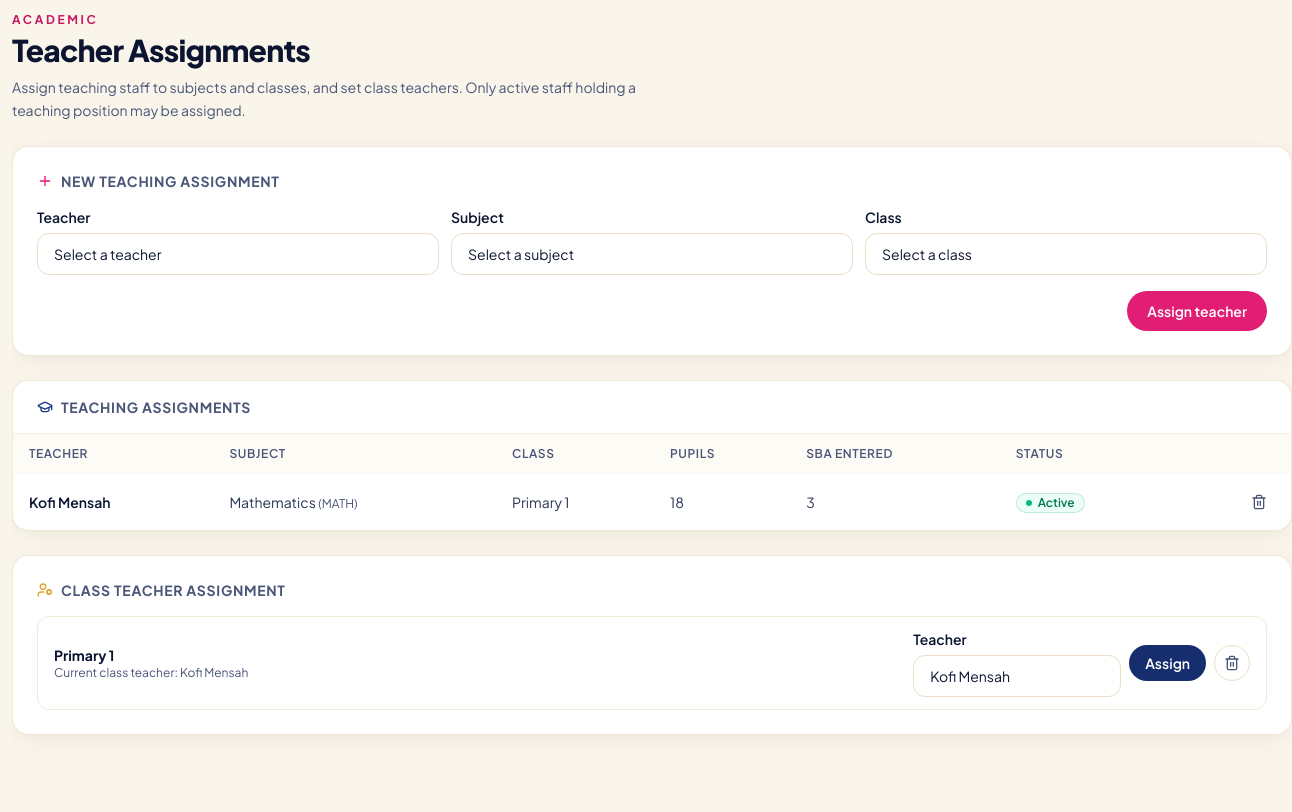
Test: TeacherAssignmentPage › removes a class teacher; the class reverts to unassigned on reload (TEST 7)
Check: the text "Current class teacher: Kofi Mensah" is shown, box top-left (54, 664), bottom-right (248, 680)
Click the button named "Remove class teacher for Primary 1".
click(1232, 662)  # box top-left (1214, 644), bottom-right (1250, 680)
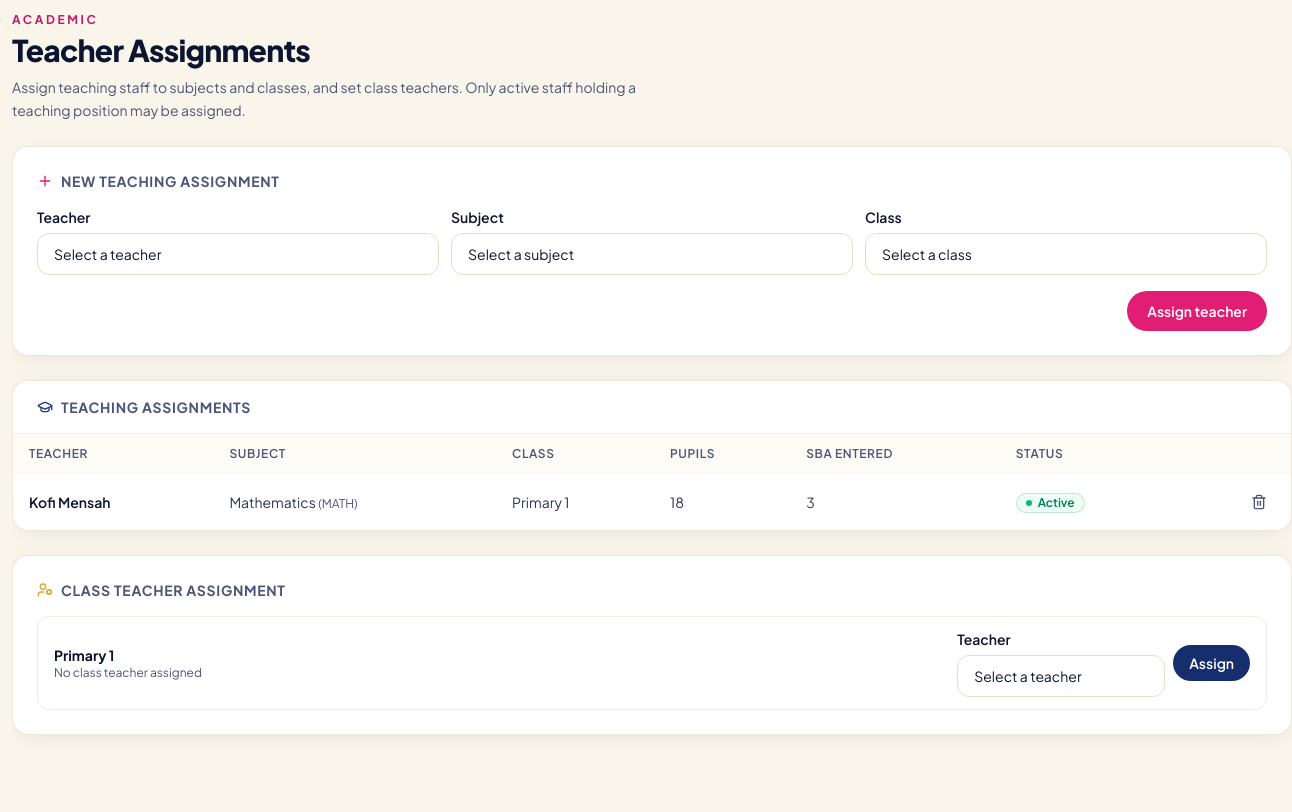
Check: the text "No class teacher assigned" is shown, box top-left (54, 664), bottom-right (202, 680)
Check: the text "Current class teacher: Kofi Mensah" is gone
